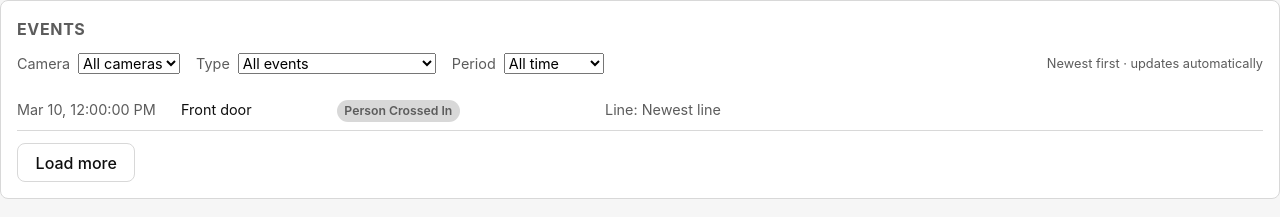
Test: EventsPage › offers Load more only while there is an older page, and appends it
Expected: the text "Line: Newest line" is shown, [605,101,721,118]
Click the button "Load more". click: (76, 163)
box: [17,143,136,182]
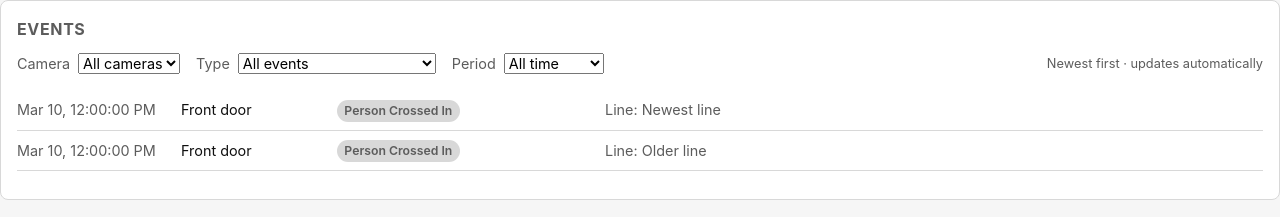
Expected: the text "Line: Newest line" is shown, [605,101,721,118]
Result: the text "Line: Older line" is shown at [605,142,707,159]
Result: the button "Load more" is gone
